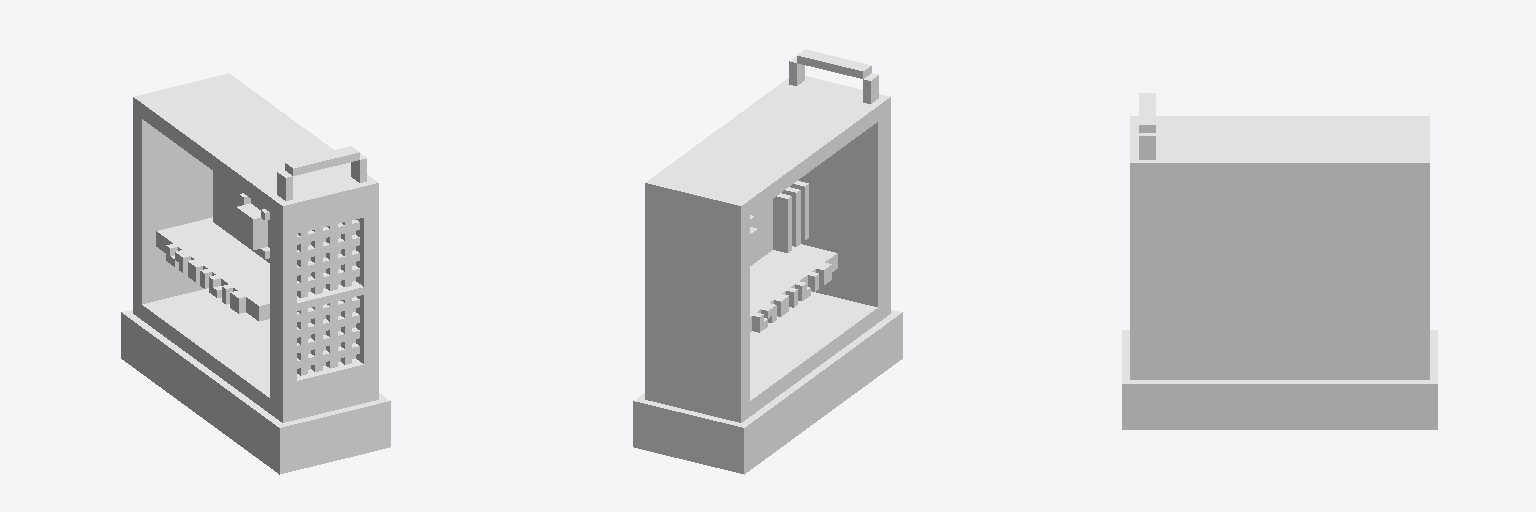
The model's file is desktop-pc-open.obj.
3 views of the same model, side by side, from view 1: azimuth 30°, elevation 25°; view 2: azimuth 150°, elevation 25°; view 3: azimuth 270°, elevation 25° (orthographic).
Visible parts, largest first — view 1: object 1; view 2: object 1; view 3: object 1.
Boxes of the visible parts, x1=… form: object 1: x1=121, y1=73, x2=390, y2=474; object 1: x1=633, y1=49, x2=902, y2=474; object 1: x1=1122, y1=93, x2=1437, y2=429.
Bounding box in the file's own units: 1.5 × 3.8 × 3.7.